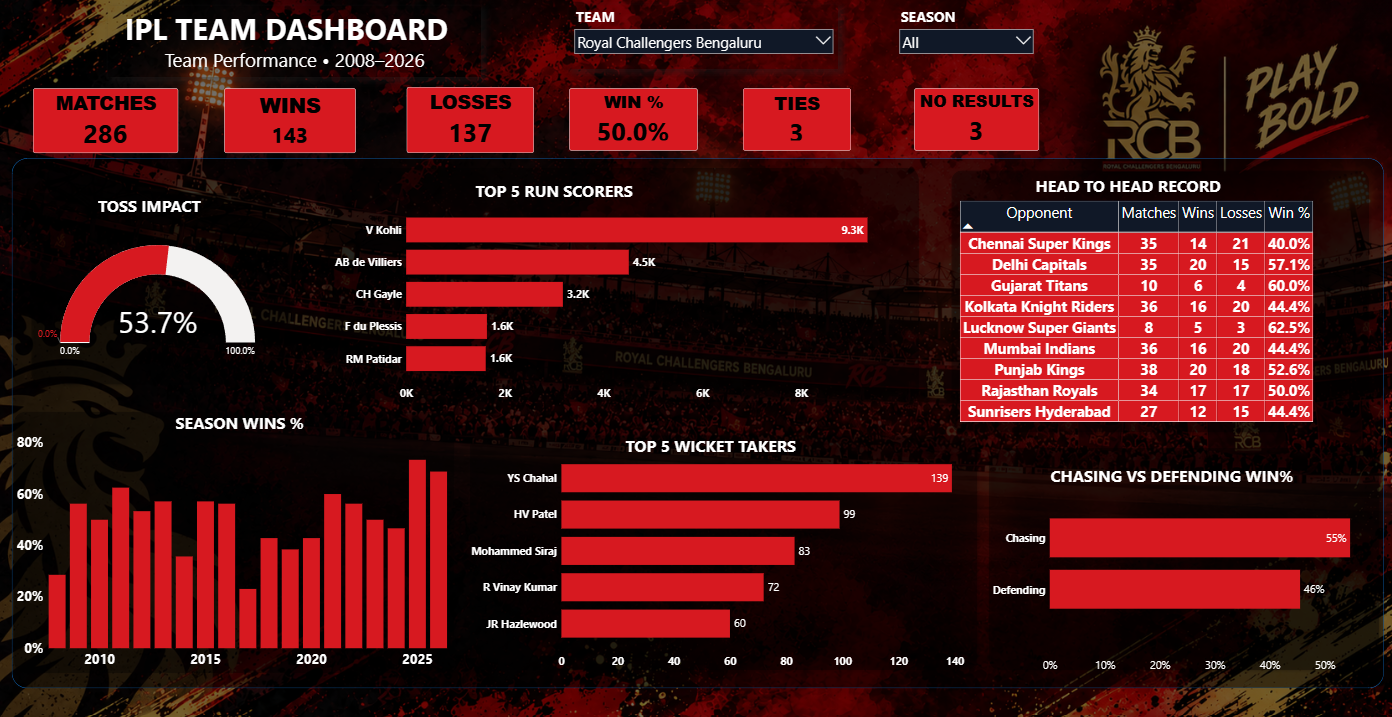

This screenshot's page, from the dashboard's own definition file:
{"tool":"powerbi","page":{"name":"Page 1","canvas":[2800,1450],"ordinal":0},"visuals":[{"type":"image","box":[0,2.3,2800,1448.5],"z":0},{"type":"shape","box":[0,2.3,2800,1448.5],"z":1000},{"type":"shape","box":[27.2,322.3,2744.3,1060],"z":2000},{"type":"shape","box":[56.7,383.6,535.7,401.8],"z":2500},{"type":"shape","box":[649.2,338.2,1196.2,476.7],"z":2750},{"type":"shape","box":[935.6,868.6,1032.7,487.5],"z":2875},{"type":"shape","box":[27.2,824,889.8,531.2],"z":2937},{"type":"shape","box":[1897.6,338.2,853.5,542.5],"z":2968},{"type":"shape","box":[1972.5,892.1,799,463.1],"z":2984},{"type":"slicer","fields":{"Values":["Dim_Team.Team_Name"]},"box":[1143.6,13.9,538.3,129.4],"z":3000},{"type":"slicer","fields":{"Values":["Dim_Date.Year"]},"box":[1792.7,13.9,288.8,129.4],"z":4000},{"type":"textbox","box":[219.5,18.5,746.2,143.2],"z":5000},{"type":"cardVisual","title":"MATCHES","fields":{"Data":["Dim_Date.Matches Played"]},"box":[70.4,181.6,290.5,129.4],"z":6000},{"type":"cardVisual","title":"WINS","fields":{"Data":["Fact_Match.Wins"]},"box":[452.8,182.5,263.4,129.4],"z":8000},{"type":"cardVisual","title":"LOSSES","fields":{"Data":["Fact_Match.Losses"]},"box":[817.2,179.3,254.2,131.7],"z":9000},{"type":"cardVisual","title":"WIN %","fields":{"Data":["Fact_Match.Win %"]},"box":[1143.6,182.5,256.4,124.8],"z":10000},{"type":"cardVisual","title":"TIES","fields":{"Data":["Fact_Match.Ties"]},"box":[1489,181.6,215.6,124.8],"z":11000},{"type":"cardVisual","title":"NO RESULTS","fields":{"Data":["Fact_Match.No Results"]},"box":[1832,182.5,249.5,124.8],"z":12000},{"type":"clusteredBarChart","title":"Top 5 Run Scorers","fields":{"Y":["Dim_Date.Total Runs"],"Category":["Fact_Ball.batter"]},"box":[667.3,401.8,1125.9,415.4],"z":13000},{"type":"clusteredBarChart","title":"Top 5 Wicket Takers","fields":{"Category":["Fact_Ball.bowler"],"Y":["Fact_Ball.Total Wickets"]},"box":[940.3,891.7,1032.7,462],"z":14000},{"type":"tableEx","title":"HEAD-TO-HEAD RECORD","fields":{"Values":["H2H Opponents.Opponent","Dim_Date.H2H Matches","Dim_Date.H2H Wins","Dim_Date.H2H Losses","Dim_Date.H2H Win %"]},"box":[1918.1,401.8,810.4,469.9],"z":15000},{"type":"clusteredBarChart","title":"Chasing vs Defending","fields":{"Category":["Match Situation.Situation"],"Y":["Match Situation.Situation Win %"]},"box":[1988.4,937.5,783.1,419.9],"z":16000},{"type":"clusteredColumnChart","title":"Season Wins","fields":{"Y":["Dim_Date.Season Win %"],"Category":["Dim_Date.Year"]},"box":[32.3,868.6,884.8,485.1],"z":17000},{"type":"gauge","title":"Toss Impact","fields":{"Y":["Dim_Date.Toss Win Match %"]},"box":[70.4,474.4,449.4,272.4],"z":18000},{"type":"textbox","box":[196,390,301.9,72.6],"z":19000},{"type":"textbox","box":[950,360,397.2,81.7],"z":20000},{"type":"textbox","box":[2070,350,492.6,145.3],"z":21000},{"type":"textbox","box":[350,825,300,300],"z":22000},{"type":"textbox","box":[1250,870,399.7,83.2],"z":23000},{"type":"textbox","box":[2100,930,559.1,122.4],"z":24000}]}

Visuals, with their boxes in screenshot pixels (x1, y1, x2, y2), scaled from the page's 2800x1450 canvas onto the 1392x717 screenshot:
image: (0, 1, 1391, 716)
shape: (0, 1, 1391, 716)
shape: (14, 159, 1378, 684)
shape: (28, 190, 295, 388)
shape: (323, 167, 917, 403)
shape: (465, 430, 979, 671)
shape: (14, 407, 456, 670)
shape: (943, 167, 1368, 435)
shape: (981, 441, 1378, 670)
slicer - Dim_Team.Team_Name: (569, 7, 836, 71)
slicer - Dim_Date.Year: (891, 7, 1035, 71)
textbox: (109, 9, 480, 80)
"MATCHES" cardVisual: (35, 90, 179, 154)
"WINS" cardVisual: (225, 90, 356, 154)
"LOSSES" cardVisual: (406, 89, 533, 154)
"WIN %" cardVisual: (569, 90, 696, 152)
"TIES" cardVisual: (740, 90, 847, 152)
"NO RESULTS" cardVisual: (911, 90, 1035, 152)
"Top 5 Run Scorers" clusteredBarChart: (332, 199, 891, 404)
"Top 5 Wicket Takers" clusteredBarChart: (467, 441, 981, 669)
"HEAD-TO-HEAD RECORD" tableEx: (954, 199, 1356, 431)
"Chasing vs Defending" clusteredBarChart: (989, 464, 1378, 671)
"Season Wins" clusteredColumnChart: (16, 430, 456, 669)
"Toss Impact" gauge: (35, 235, 258, 369)
textbox: (97, 193, 248, 229)
textbox: (472, 178, 670, 218)
textbox: (1029, 173, 1274, 245)
textbox: (174, 408, 323, 556)
textbox: (621, 430, 820, 471)
textbox: (1044, 460, 1322, 520)
